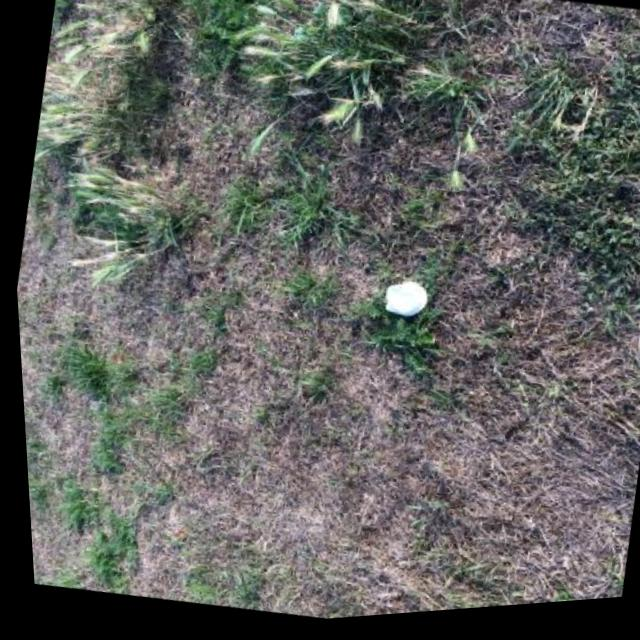plastic: (381, 274, 432, 320)
